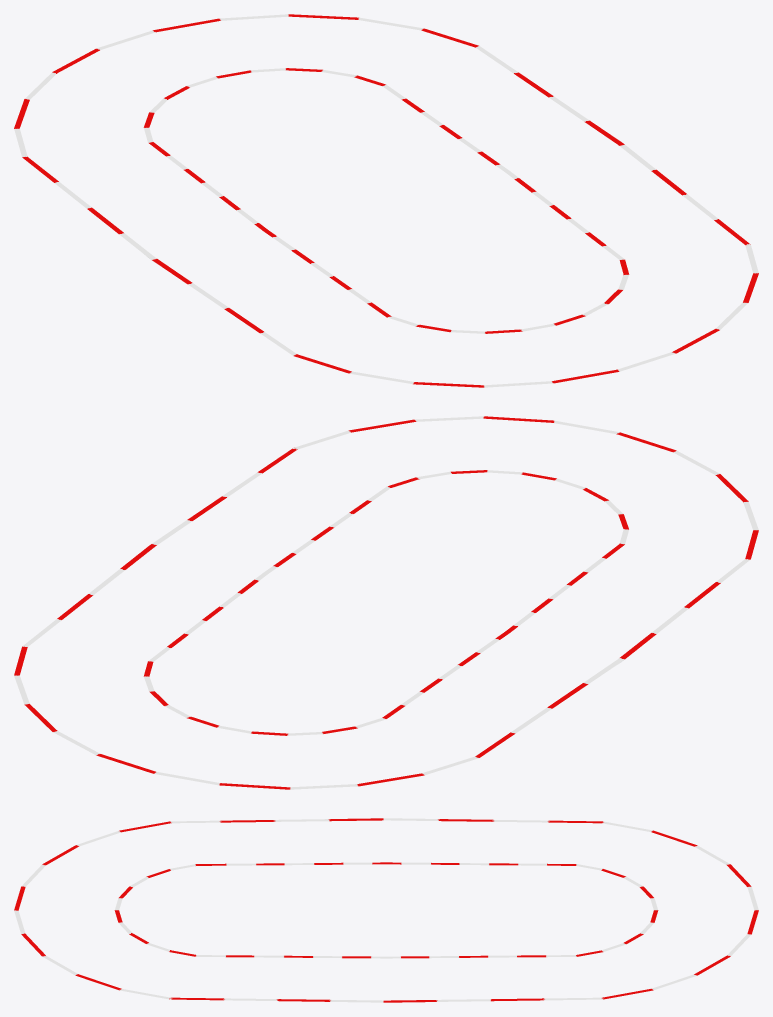
File: NewNewR-W.obj
The picture shows the model from 3 angles, top to bottom: view 1: azimuth 30°, elevation 25°; view 2: azimuth 150°, elevation 25°; view 3: azimuth 270°, elevation 25°; orthographic projection. The views are drawn at different scales.
Bounding box in the file's own units: 61.38 × 0 × 105.
